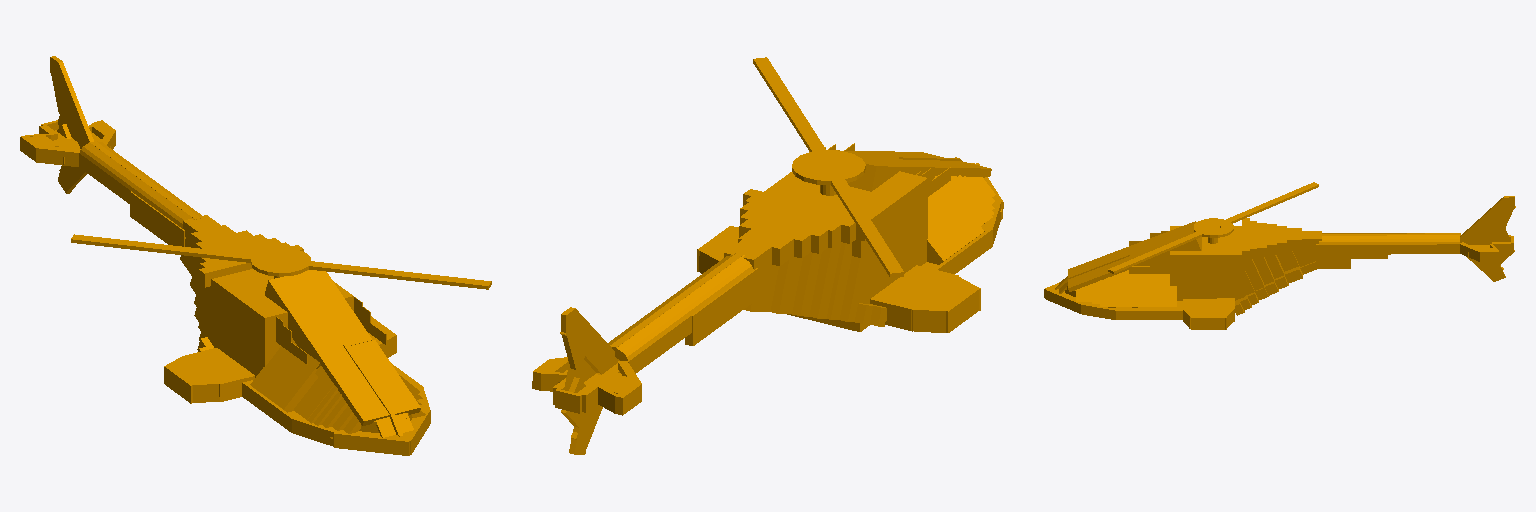
URDF robot description (mesh_object):
<?xml version="1.0" ?>
<robot name="mesh_object">
  <link name="base">
    <visual>
      <geometry>
        <mesh filename="weathervane_3.obj" scale="1 1 1"/>
      </geometry>
    </visual>
    <collision>
      <geometry>
        <mesh filename="weathervane_3.obj" scale="1 1 1"/>
      </geometry>
    </collision>
    <inertial>
      <origin xyz="0.000040 0.018941 0.030423" rpy="0 0 0"/>
      <mass value="0.5"/>
      <inertia ixx="0.01" iyy="0.01" izz="0.01" ixy="0" ixz="0" iyz="0"/>
    </inertial>
  </link>
</robot>

--- Render facts (derived) ---
Views: 3 orthographic renders of the robot side by side, from view 1: azimuth 30°, elevation 25°; view 2: azimuth 150°, elevation 25°; view 3: azimuth 270°, elevation 25°.
Robot: mesh_object — 1 links, 0 joints (none); root link base; default pose: all joints at 0.
Links seen in each view (by area): view 1: base; view 2: base; view 3: base.
Boxes of the visible links, bbox=[...] form: base: bbox=[20, 56, 491, 455]; base: bbox=[532, 57, 1003, 454]; base: bbox=[1044, 182, 1515, 329].
Size in the robot's own frame: 0.1153 by 0.2561 by 0.0608 metres.
1 mesh visuals loaded from 1 distinct referenced files (1 OBJ).
